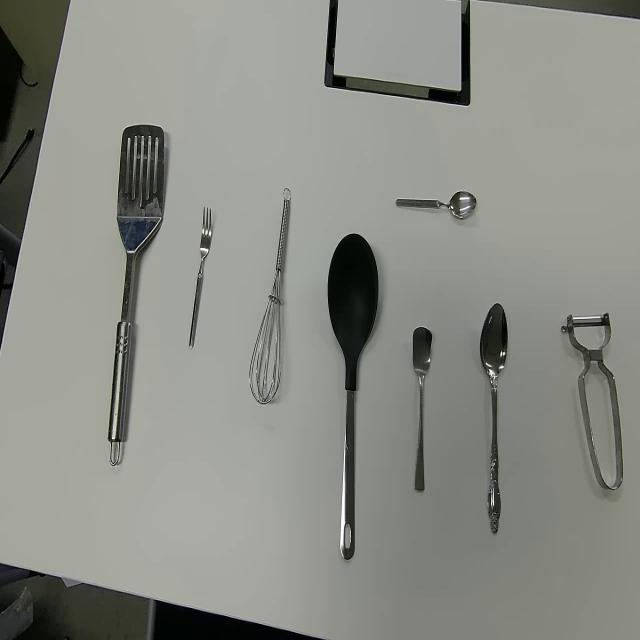Desert-Spoon: (479, 300, 509, 535)
Dinner-Fork: (188, 204, 213, 350)
Peeler: (559, 309, 624, 492)
Serving-Spoon: (107, 122, 166, 469), (326, 231, 379, 562)
Tea-Spoon: (412, 325, 432, 494), (394, 189, 478, 222)
Whisk: (248, 186, 292, 406)
